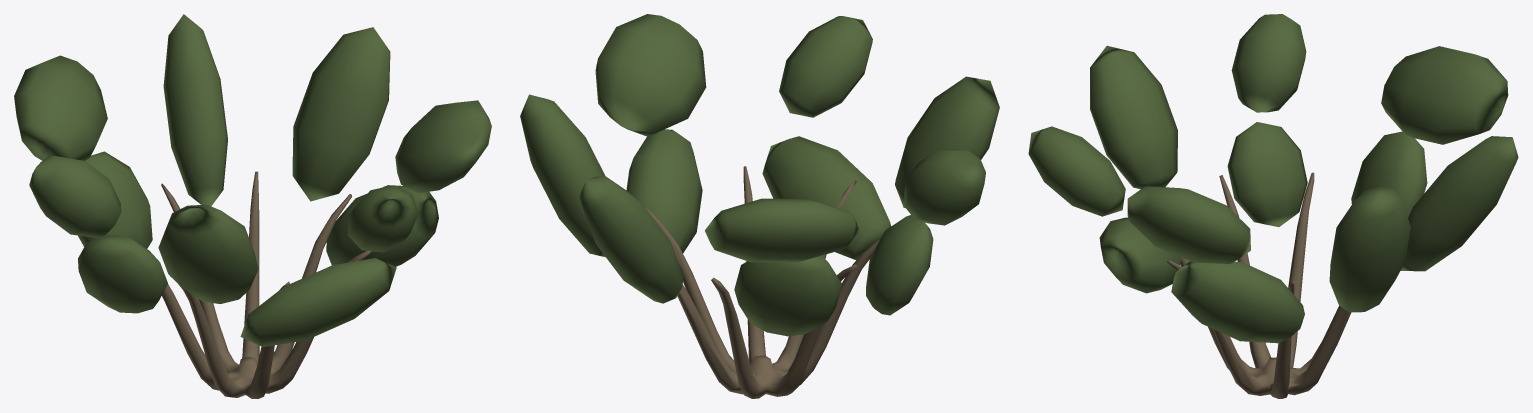
The model's file is Lentisque_1_Niveau2.fbx.
The picture shows the model from 3 angles, left to right: view 1: azimuth 30°, elevation 25°; view 2: azimuth 150°, elevation 25°; view 3: azimuth 270°, elevation 25°; orthographic projection. The views are drawn at different scales.
Visible parts, largest first — view 1: Lentisque_1_Niveau2_Jeu; view 2: Lentisque_1_Niveau2_Jeu; view 3: Lentisque_1_Niveau2_Jeu.
Boxes of the visible parts, box(x1,y1,x2,y2) form: Lentisque_1_Niveau2_Jeu: box(14, 14, 491, 398); Lentisque_1_Niveau2_Jeu: box(520, 14, 999, 398); Lentisque_1_Niveau2_Jeu: box(1028, 14, 1518, 398).
Bounding box in the file's own units: 225 × 149 × 233.
